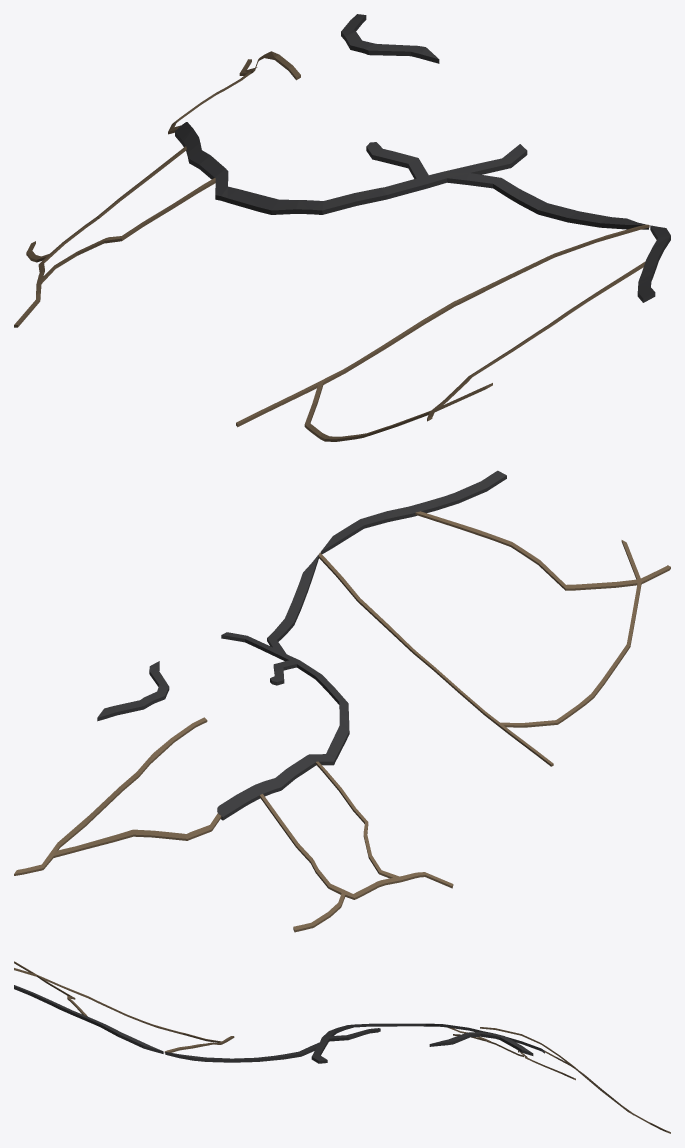
The picture shows the model from 3 angles, top to bottom: view 1: azimuth 30°, elevation 25°; view 2: azimuth 150°, elevation 25°; view 3: azimuth 270°, elevation 25°; orthographic projection. The views are drawn at different scales.
Bounding box in the file's own units: 112 × 62.42 × 249.
